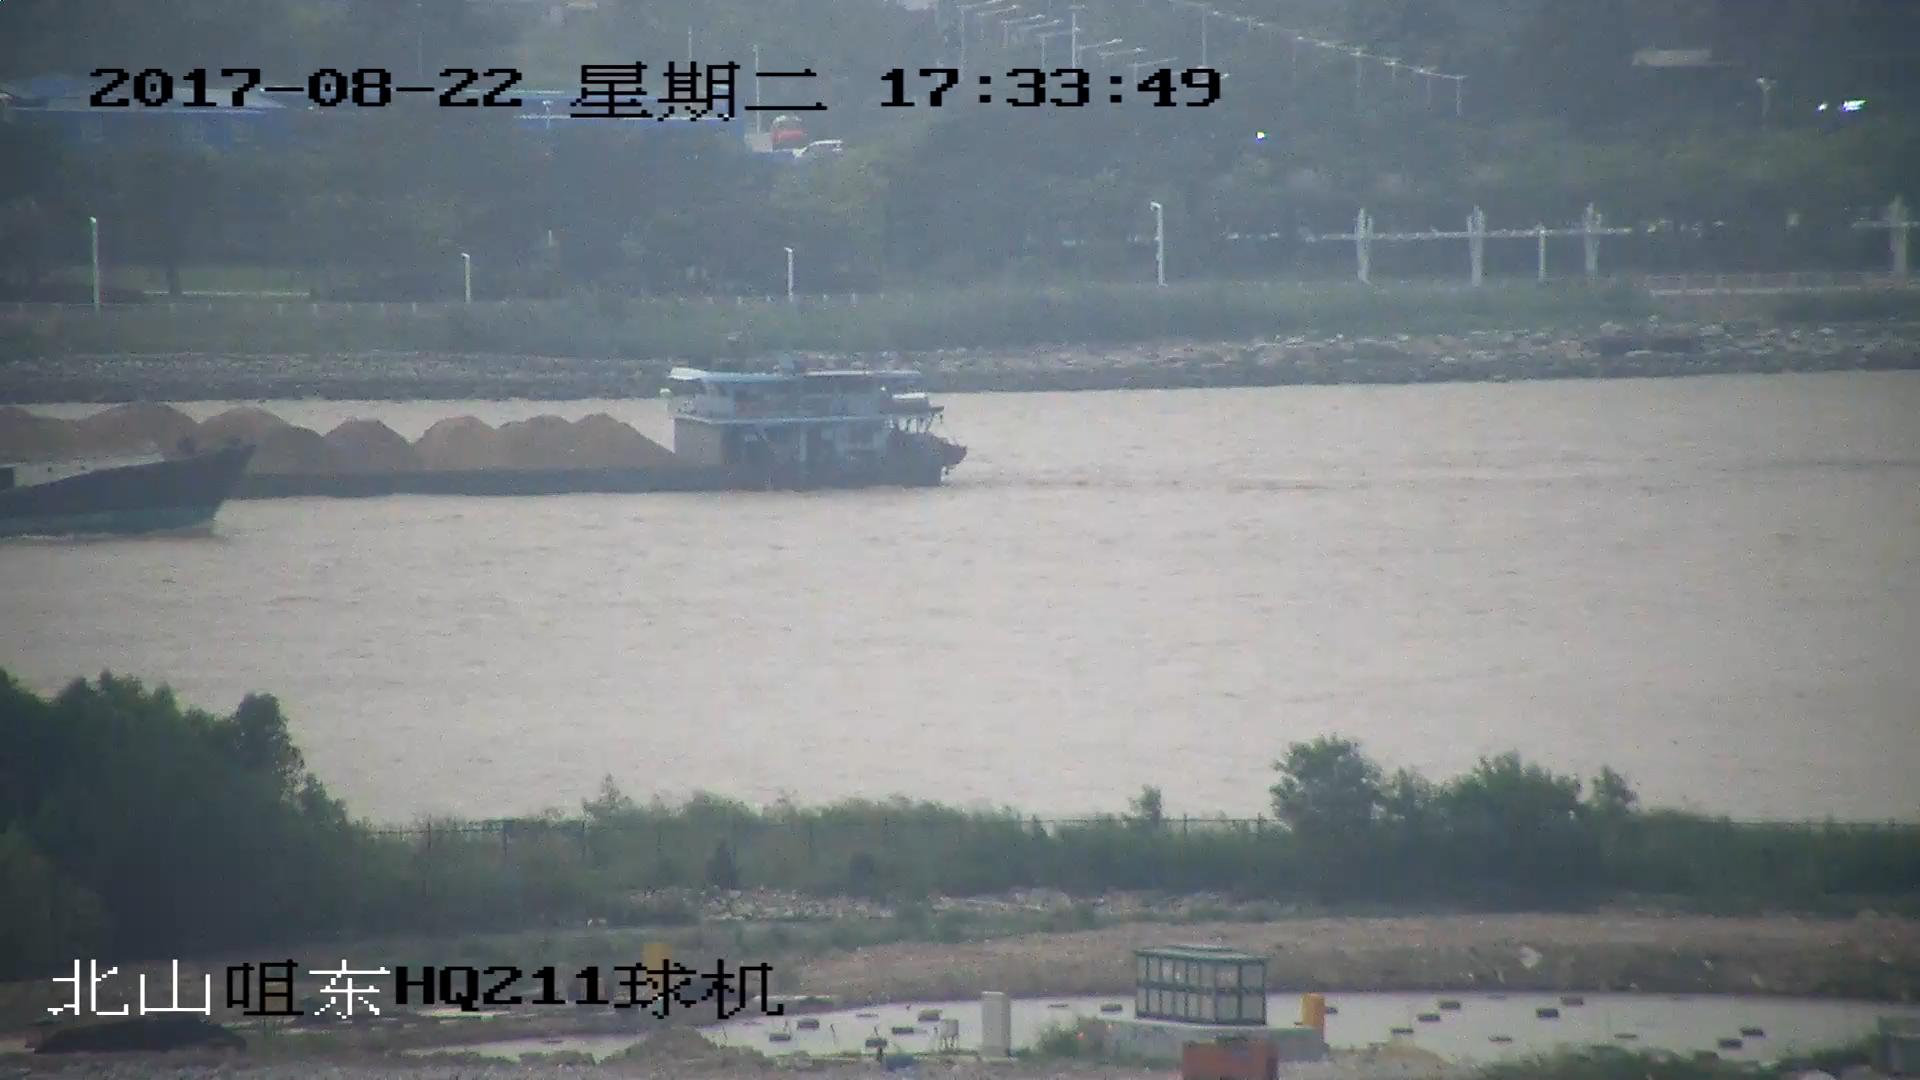fishing boat: (1, 444, 257, 537)
ore carrier: (1, 363, 965, 493)
